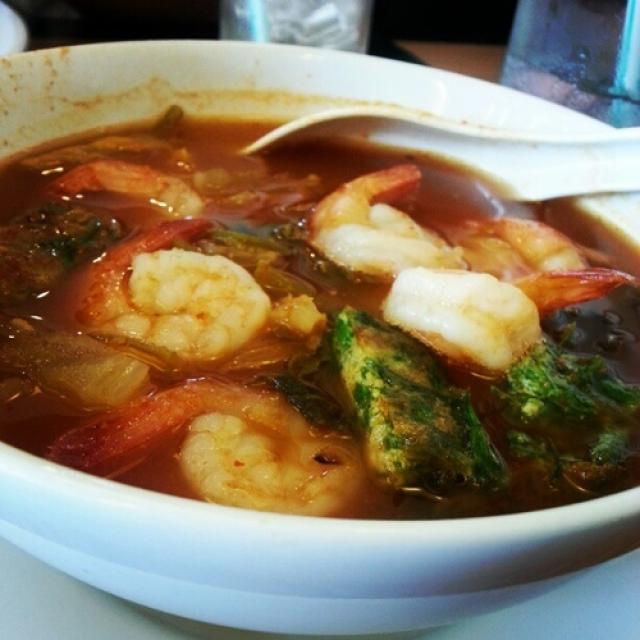汤锅炖物: (22, 26, 627, 586)
